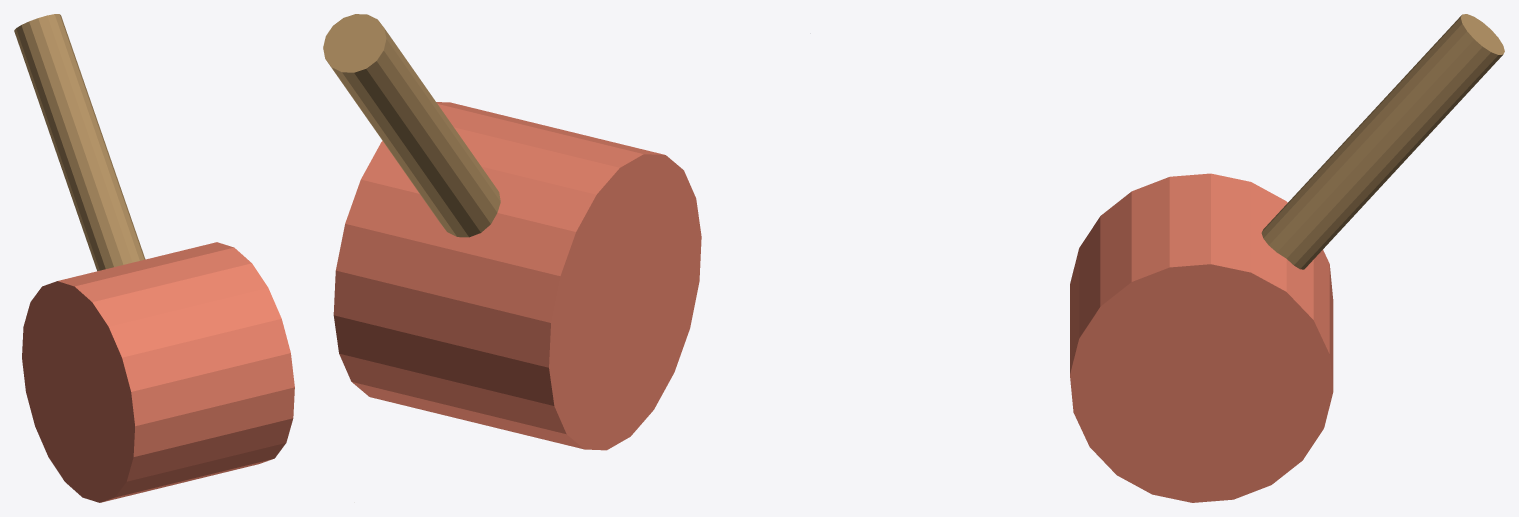
File: mallet_hazure_3d.glb
3 renders of one model, left to right at view 1: azimuth 30°, elevation 25°; view 2: azimuth 150°, elevation 25°; view 3: azimuth 270°, elevation 25°, orthographic. The views are drawn at different scales.
Visible parts, largest first — view 1: mallet_head, mallet_handle; view 2: mallet_head, mallet_handle; view 3: mallet_head, mallet_handle.
Boxes of the visible parts, x1=… form: mallet_head: x1=22, y1=242, x2=294, y2=502; mallet_handle: x1=14, y1=14, x2=145, y2=271; mallet_head: x1=333, y1=102, x2=701, y2=450; mallet_handle: x1=323, y1=14, x2=500, y2=237; mallet_head: x1=1070, y1=173, x2=1333, y2=502; mallet_handle: x1=1261, y1=14, x2=1504, y2=269.
Size of the model in its own units: 0.26 by 0.5881 by 0.8068.
